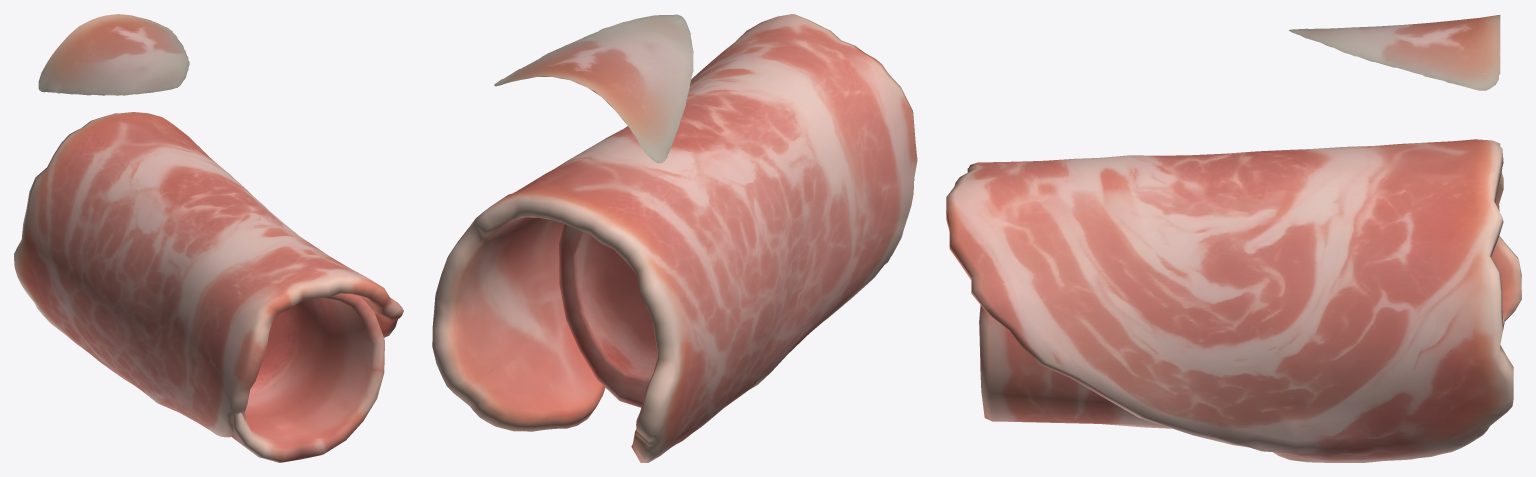
The model's file is optimized_glb.glb.
3 renders of one model, left to right at view 1: azimuth 30°, elevation 25°; view 2: azimuth 150°, elevation 25°; view 3: azimuth 270°, elevation 25°, orthographic. The views are drawn at different scales.
Visible parts, largest first — view 1: Lamb Roll Slice; view 2: Lamb Roll Slice; view 3: Lamb Roll Slice.
Boxes of the visible parts, box(x1,y1,x2,y2) form: Lamb Roll Slice: box(14, 14, 403, 462); Lamb Roll Slice: box(432, 14, 917, 462); Lamb Roll Slice: box(946, 15, 1521, 462).
Bounding box in the file's own units: 0.498 × 0.7832 × 0.998.
Materials: 1 (1 with a texture image).
